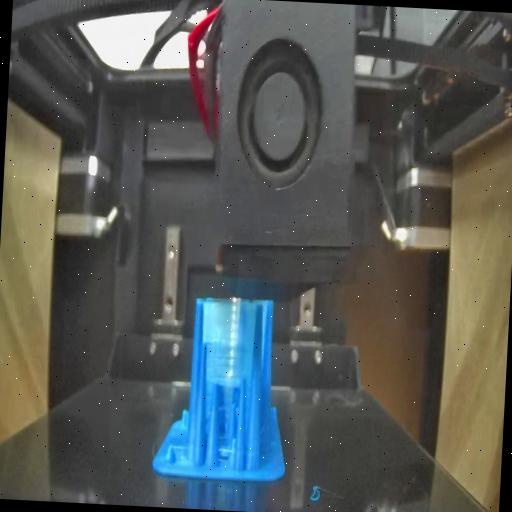stringing: (200, 300, 256, 386), (214, 396, 238, 466)
